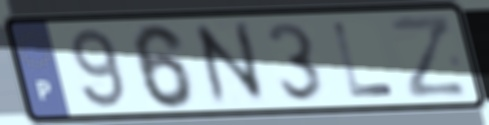3: (265, 20, 328, 103)
6: (129, 21, 199, 111)
9: (65, 26, 131, 110)
L: (328, 20, 398, 100)
N: (187, 17, 272, 109)
Z: (386, 13, 471, 102)
